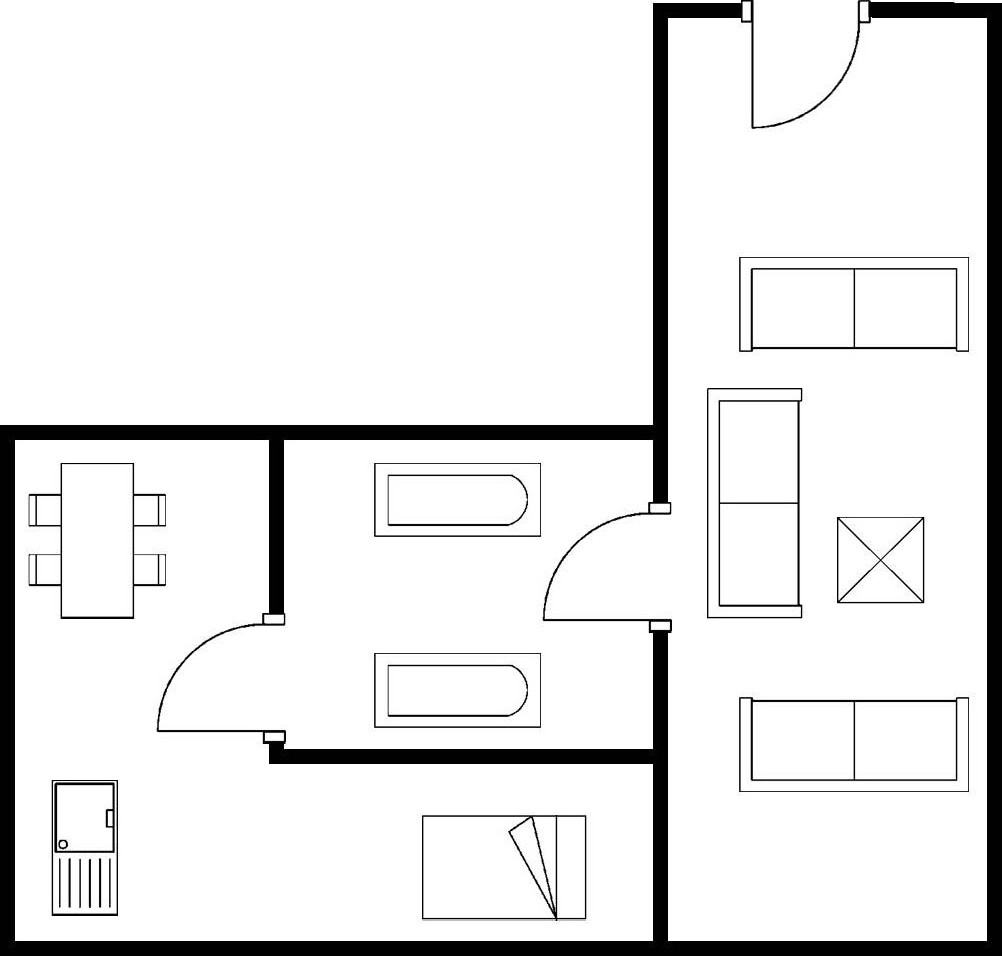bed: (417, 809, 593, 927)
coffee_table: (831, 510, 930, 608)
dining_table: (24, 458, 173, 625)
large_sofa: (733, 691, 976, 802), (733, 251, 978, 360), (702, 384, 808, 626)
sink: (45, 776, 126, 920)
tub: (366, 645, 548, 736), (368, 457, 549, 545)
